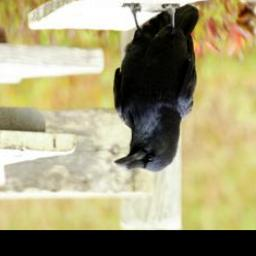Crow: (111, 3, 199, 173)
